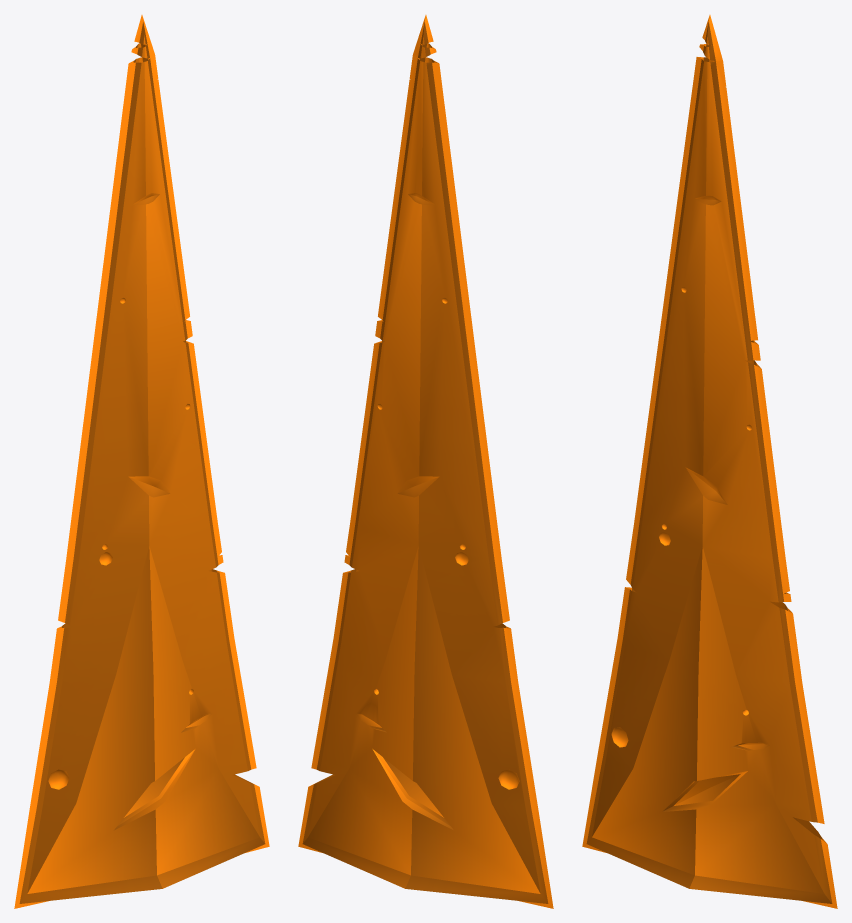
Rendered from bronze_blade_bubbles_023.glb.
3 views of the same model, side by side, from view 1: azimuth 30°, elevation 25°; view 2: azimuth 150°, elevation 25°; view 3: azimuth 330°, elevation 25° (orthographic).
Visible parts, largest first — view 1: bronze_blade_bubbles.023; view 2: bronze_blade_bubbles.023; view 3: bronze_blade_bubbles.023.
Part boxes in pixels (left/top/right/bottom): bronze_blade_bubbles.023: left=14, top=15, right=269, bottom=908; bronze_blade_bubbles.023: left=298, top=15, right=553, bottom=908; bronze_blade_bubbles.023: left=582, top=15, right=837, bottom=908.
Bounding box in the file's own units: 3.52 × 11.43 × 0.9907.
1 material, 1 textured.
